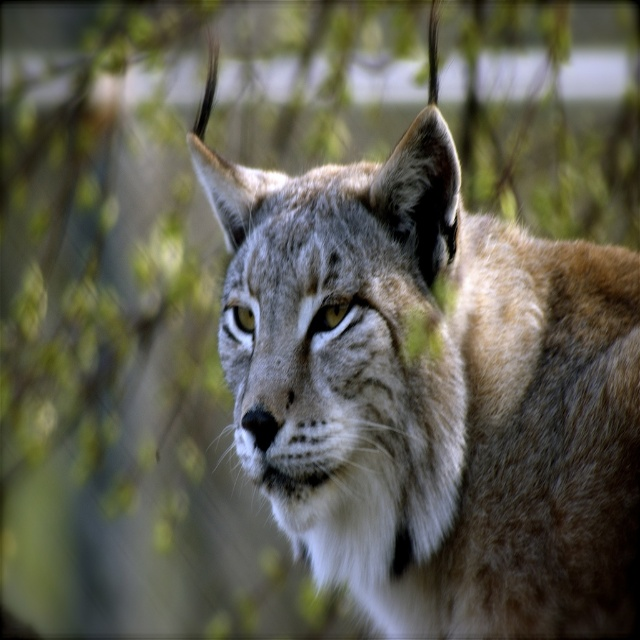Lynx: (186, 0, 640, 639)
